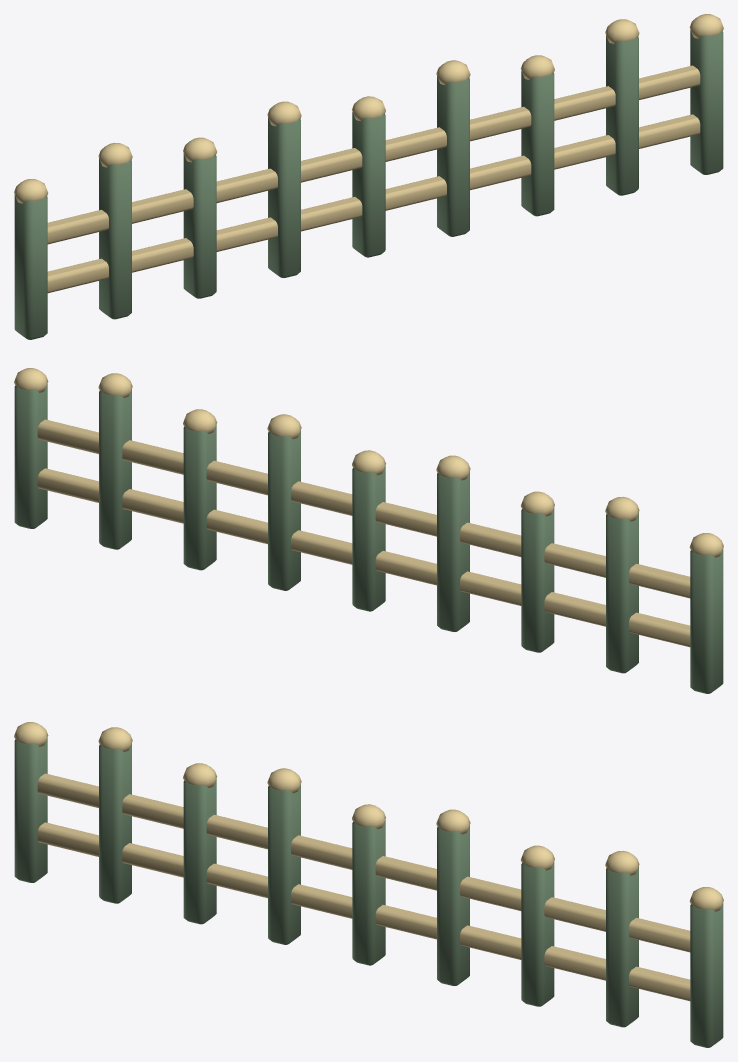
Rendered from fence_3.glb.
The picture shows the model from 3 angles, top to bottom: view 1: azimuth 30°, elevation 25°; view 2: azimuth 150°, elevation 25°; view 3: azimuth 330°, elevation 25°; orthographic projection.
Visible parts, largest first — view 1: Fence; view 2: Fence; view 3: Fence.
Boxes of the visible parts, bbox=[...] form: Fence: bbox=[14, 14, 723, 339]; Fence: bbox=[14, 368, 723, 693]; Fence: bbox=[14, 722, 723, 1047].
Size of the model in its own units: 5.75 by 1.31 by 0.22.
